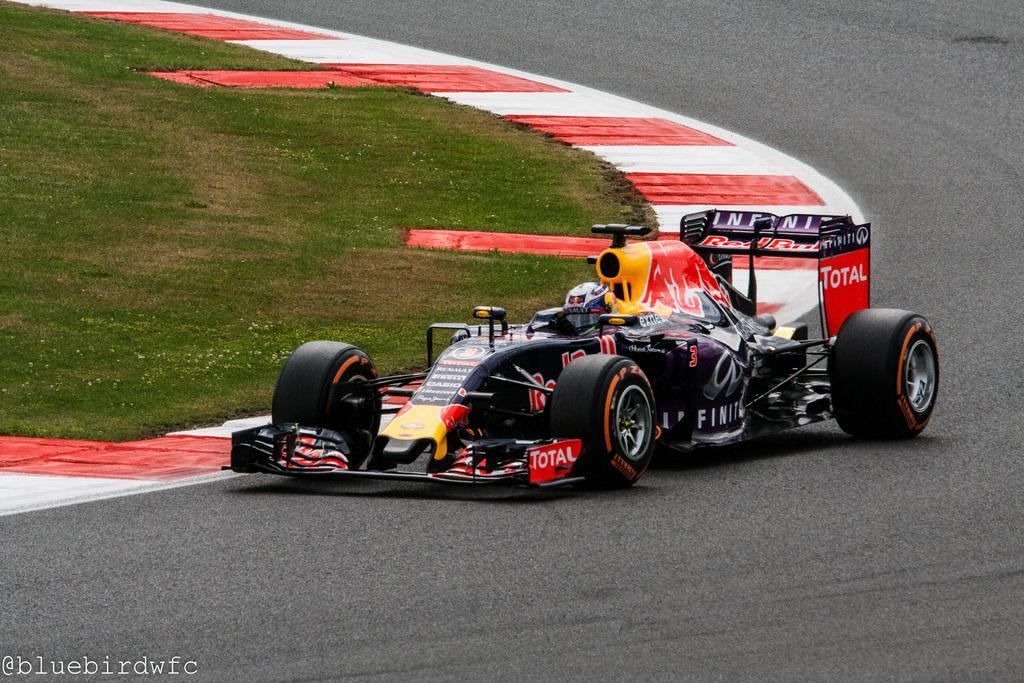helmet: (563, 280, 619, 337)
